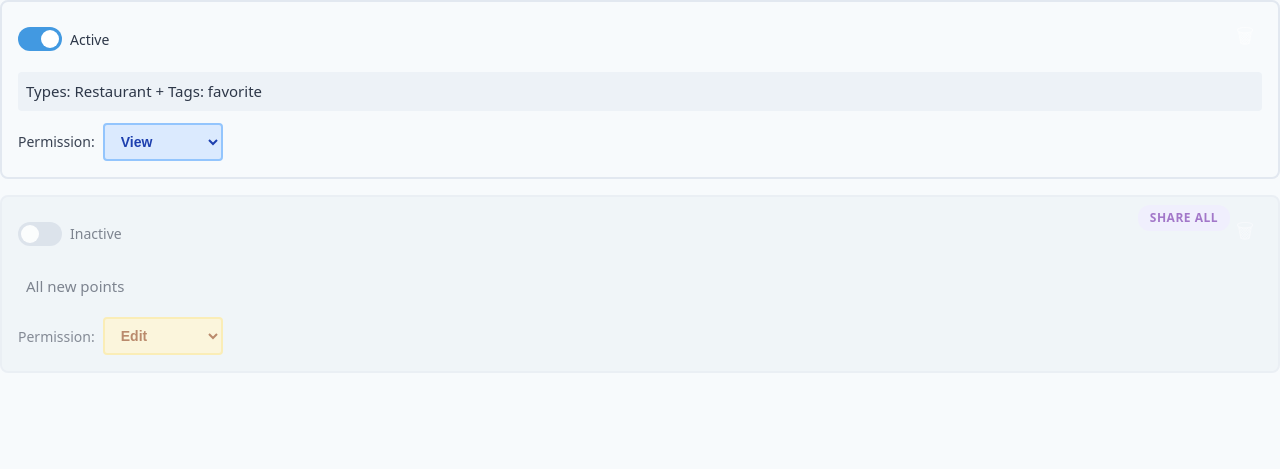
it: AutoShareRulesList Component › displays error message when permission change fails
The image size is (1280, 469).
Select "Manage" in the dropdown below "Types: Restaurant + Tags: favorite": (163, 142) [103, 122, 223, 160]
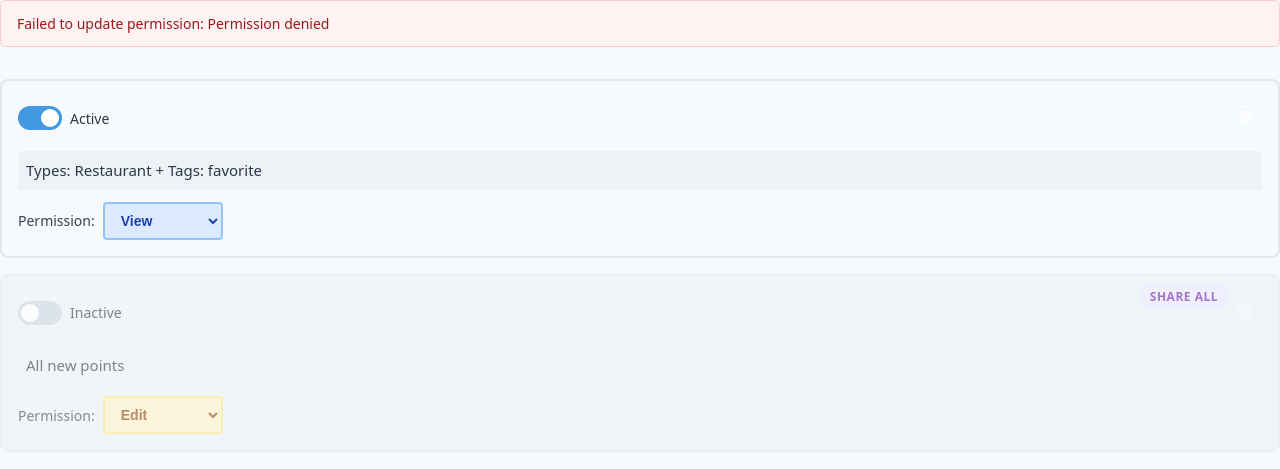
Expected: the text "Failed to update permission: Permission denied" is shown, [0, 0, 1279, 47]
